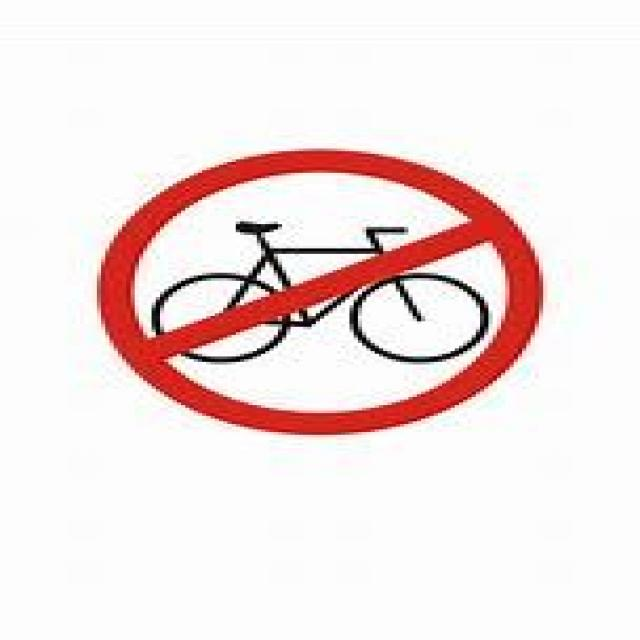CYCLE_PROHIBITED: (93, 146, 539, 435)
